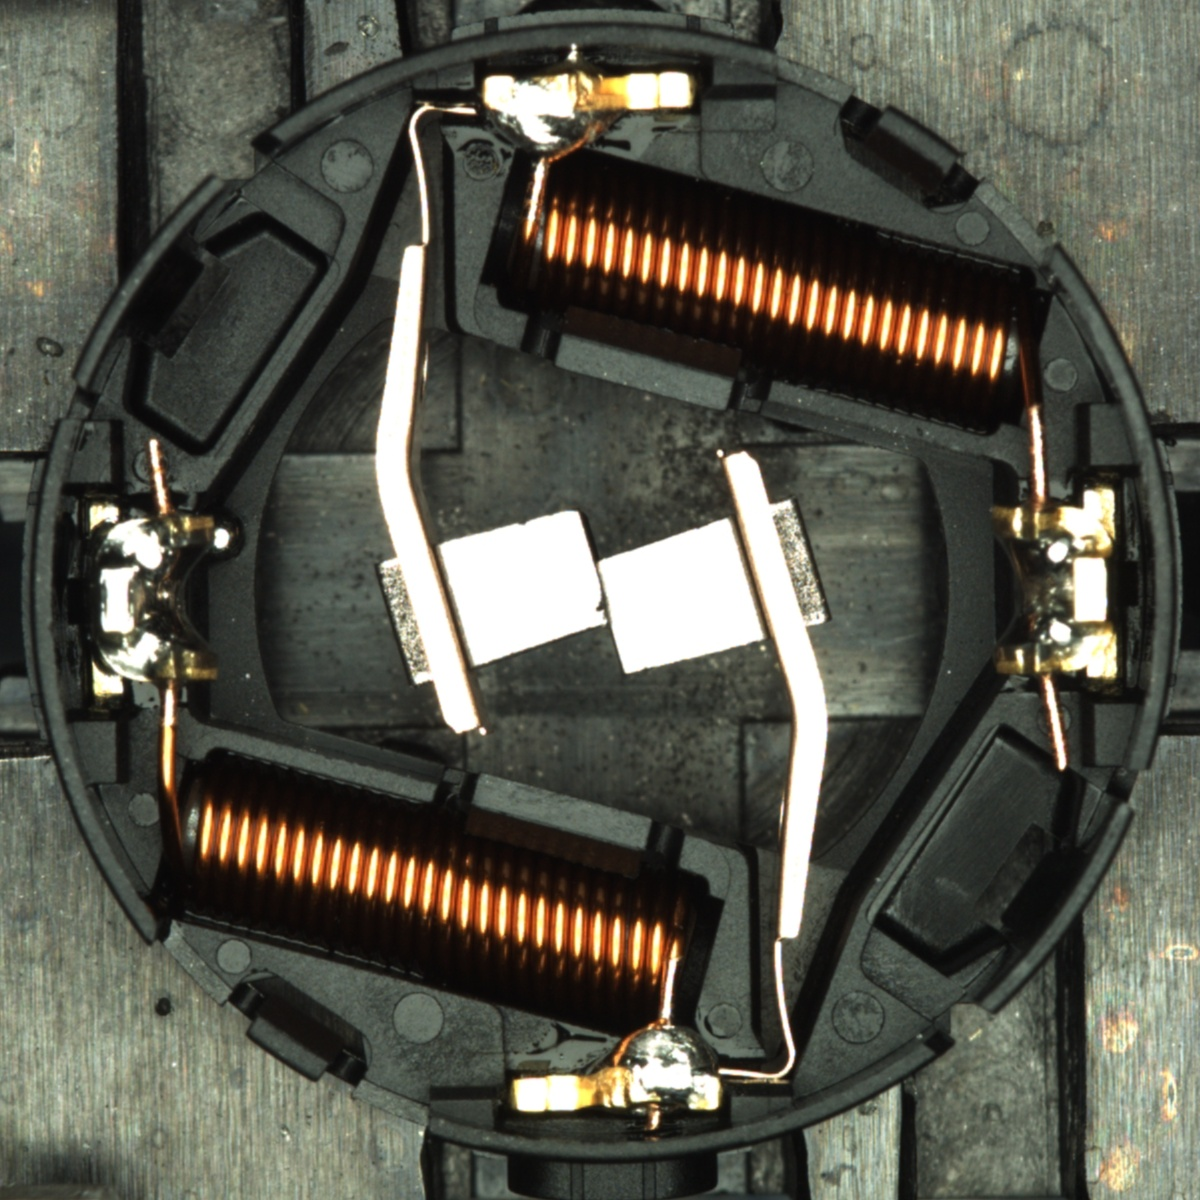1: (256, 31, 485, 255), (715, 929, 944, 1153)
2: (715, 31, 944, 255), (256, 929, 485, 1153)
3: (27, 255, 256, 480), (944, 704, 1173, 929)
4: (256, 255, 485, 480), (715, 704, 944, 929)
5: (485, 143, 715, 368), (485, 816, 715, 1041)
6: (715, 255, 944, 480), (256, 704, 485, 929)
7: (944, 255, 1173, 480), (27, 704, 256, 929)
cacbon: (401, 497, 799, 687)
chau_dien: (83, 499, 227, 702), (983, 487, 1124, 685)
hat_chi: (207, 520, 244, 559)
tay_choi: (482, 69, 697, 168), (510, 1018, 724, 1115)
thanh_de: (955, 787, 1141, 1031), (59, 163, 246, 405)
